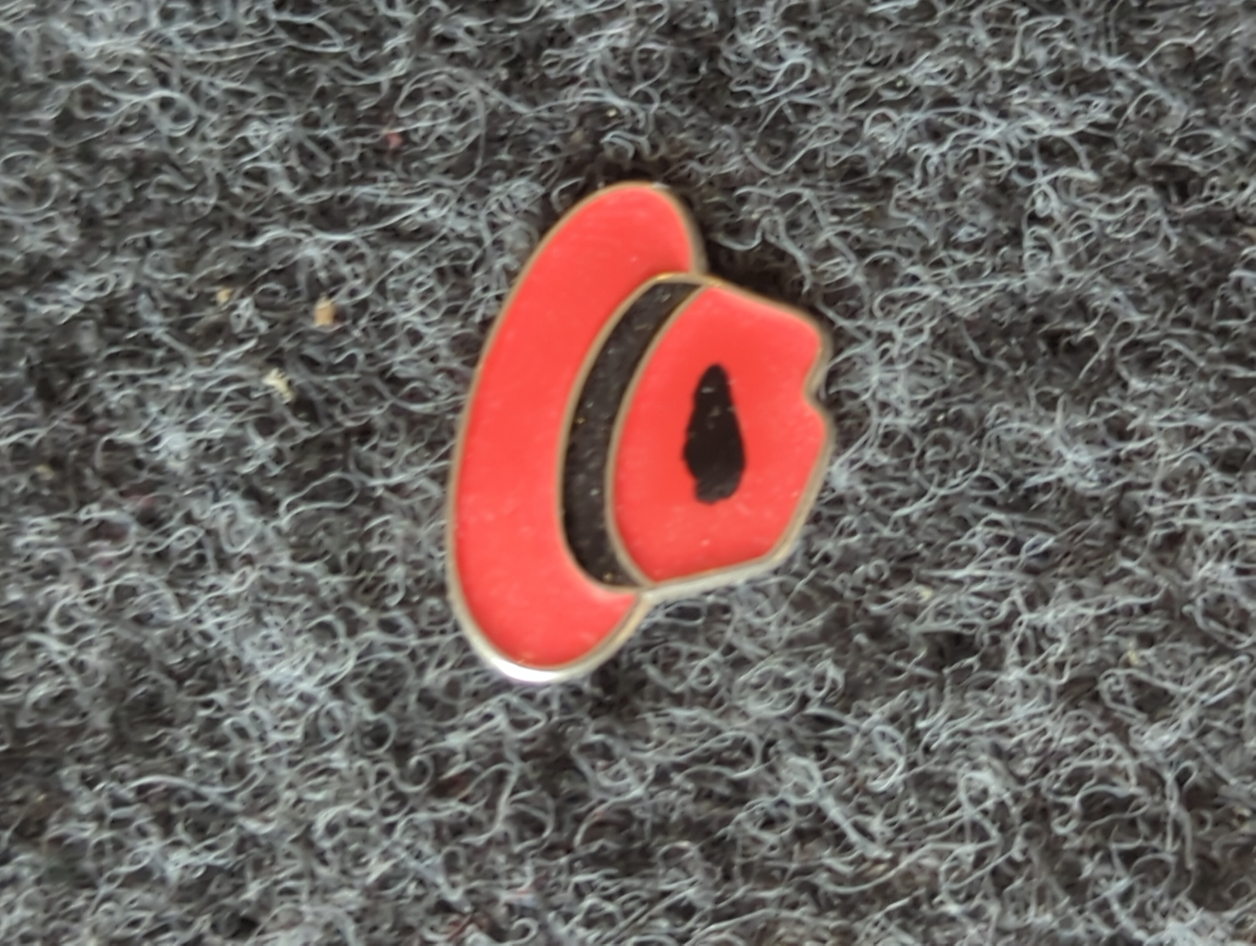Red-Hat: (384, 76, 975, 775)
Scratch: (626, 303, 790, 528)
